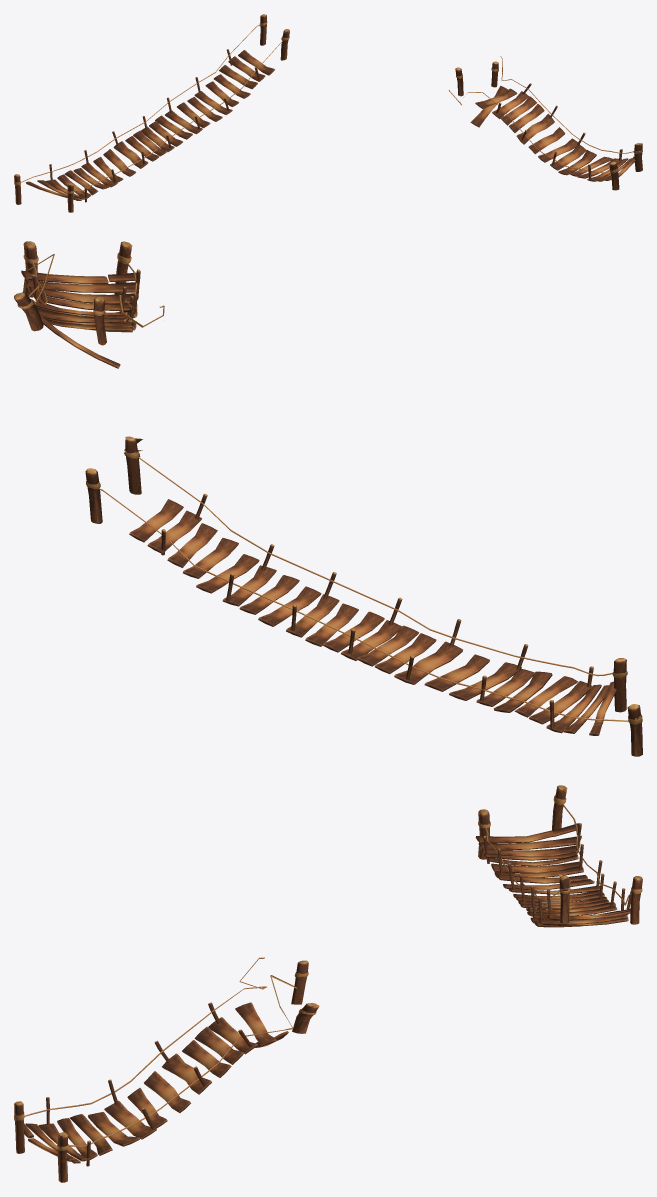
Rendered from tile7s9.fbx.
3 renders of one model, top to bottom at view 1: azimuth 30°, elevation 25°; view 2: azimuth 150°, elevation 25°; view 3: azimuth 270°, elevation 25°, orthographic. The views are drawn at different scales.
Parts seen in each view (by area): view 1: tile7_s9; view 2: tile7_s9; view 3: tile7_s9.
Boxes of the visible parts, x1,y1,x2,y2 form: tile7_s9: (14, 14, 642, 212); tile7_s9: (14, 241, 642, 756); tile7_s9: (14, 785, 642, 1182).
Bounding box in the file's own units: 130 × 28.47 × 87.66.
